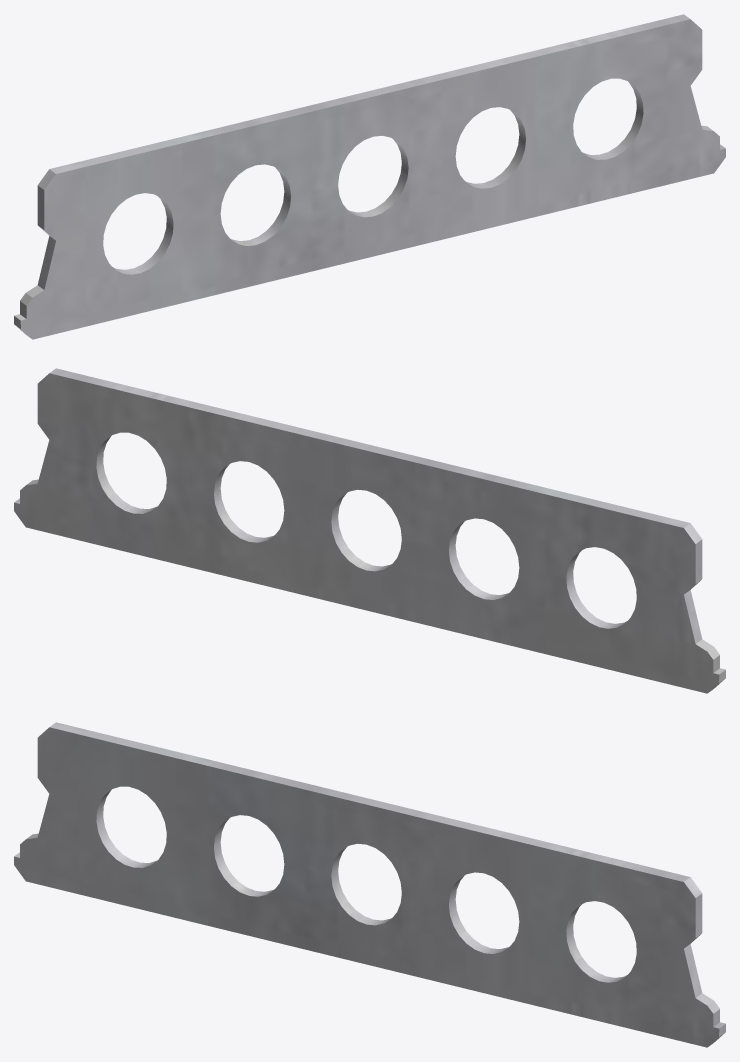
The model's file is hourdis_13_60.glb.
3 renders of one model, top to bottom at view 1: azimuth 30°, elevation 25°; view 2: azimuth 150°, elevation 25°; view 3: azimuth 330°, elevation 25°, orthographic.
Size of the model in its own units: 60 by 13 by 1.
Materials: 1 (1 with a texture image).
